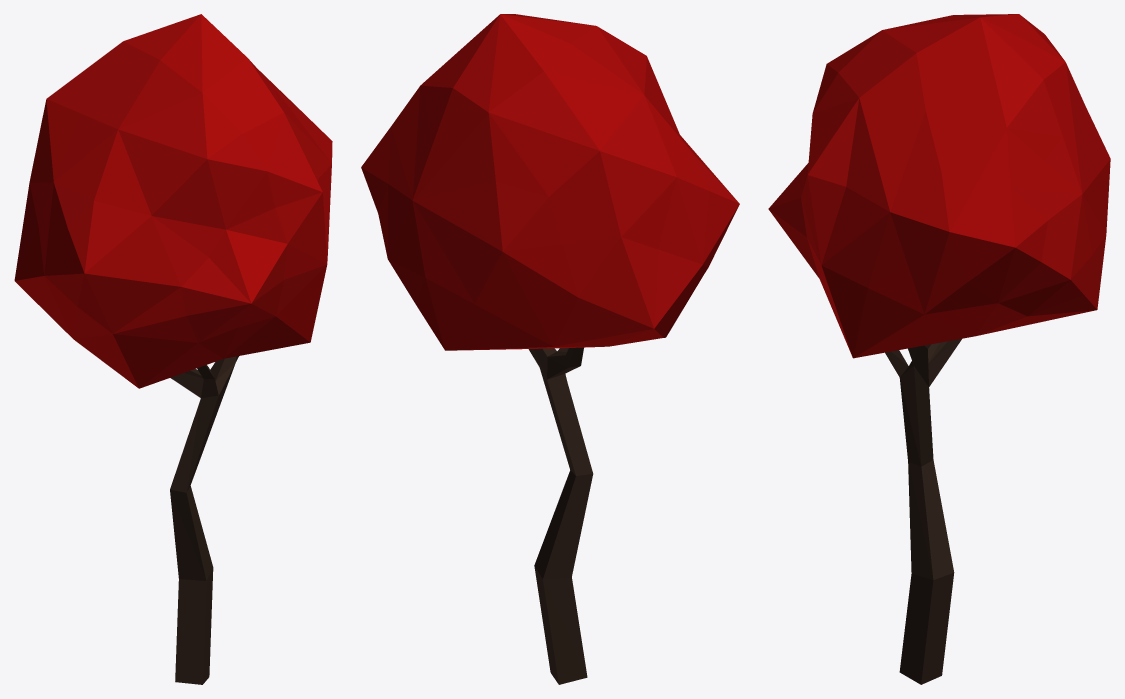
3 renders of one model, left to right at view 1: azimuth 30°, elevation 25°; view 2: azimuth 150°, elevation 25°; view 3: azimuth 270°, elevation 25°, orthographic. The views are drawn at different scales.
Visible parts, largest first — view 1: Icosphere, Cube; view 2: Icosphere, Cube; view 3: Icosphere, Cube.
Boxes of the visible parts, <box> form: Icosphere: <box>14,14,332,388</box>; Cube: <box>170,356,238,684</box>; Icosphere: <box>361,14,739,350</box>; Cube: <box>528,347,593,684</box>; Icosphere: <box>768,14,1110,358</box>; Cube: <box>885,339,961,684</box>.
Bounding box in the file's own units: 1021 × 2138 × 979.
